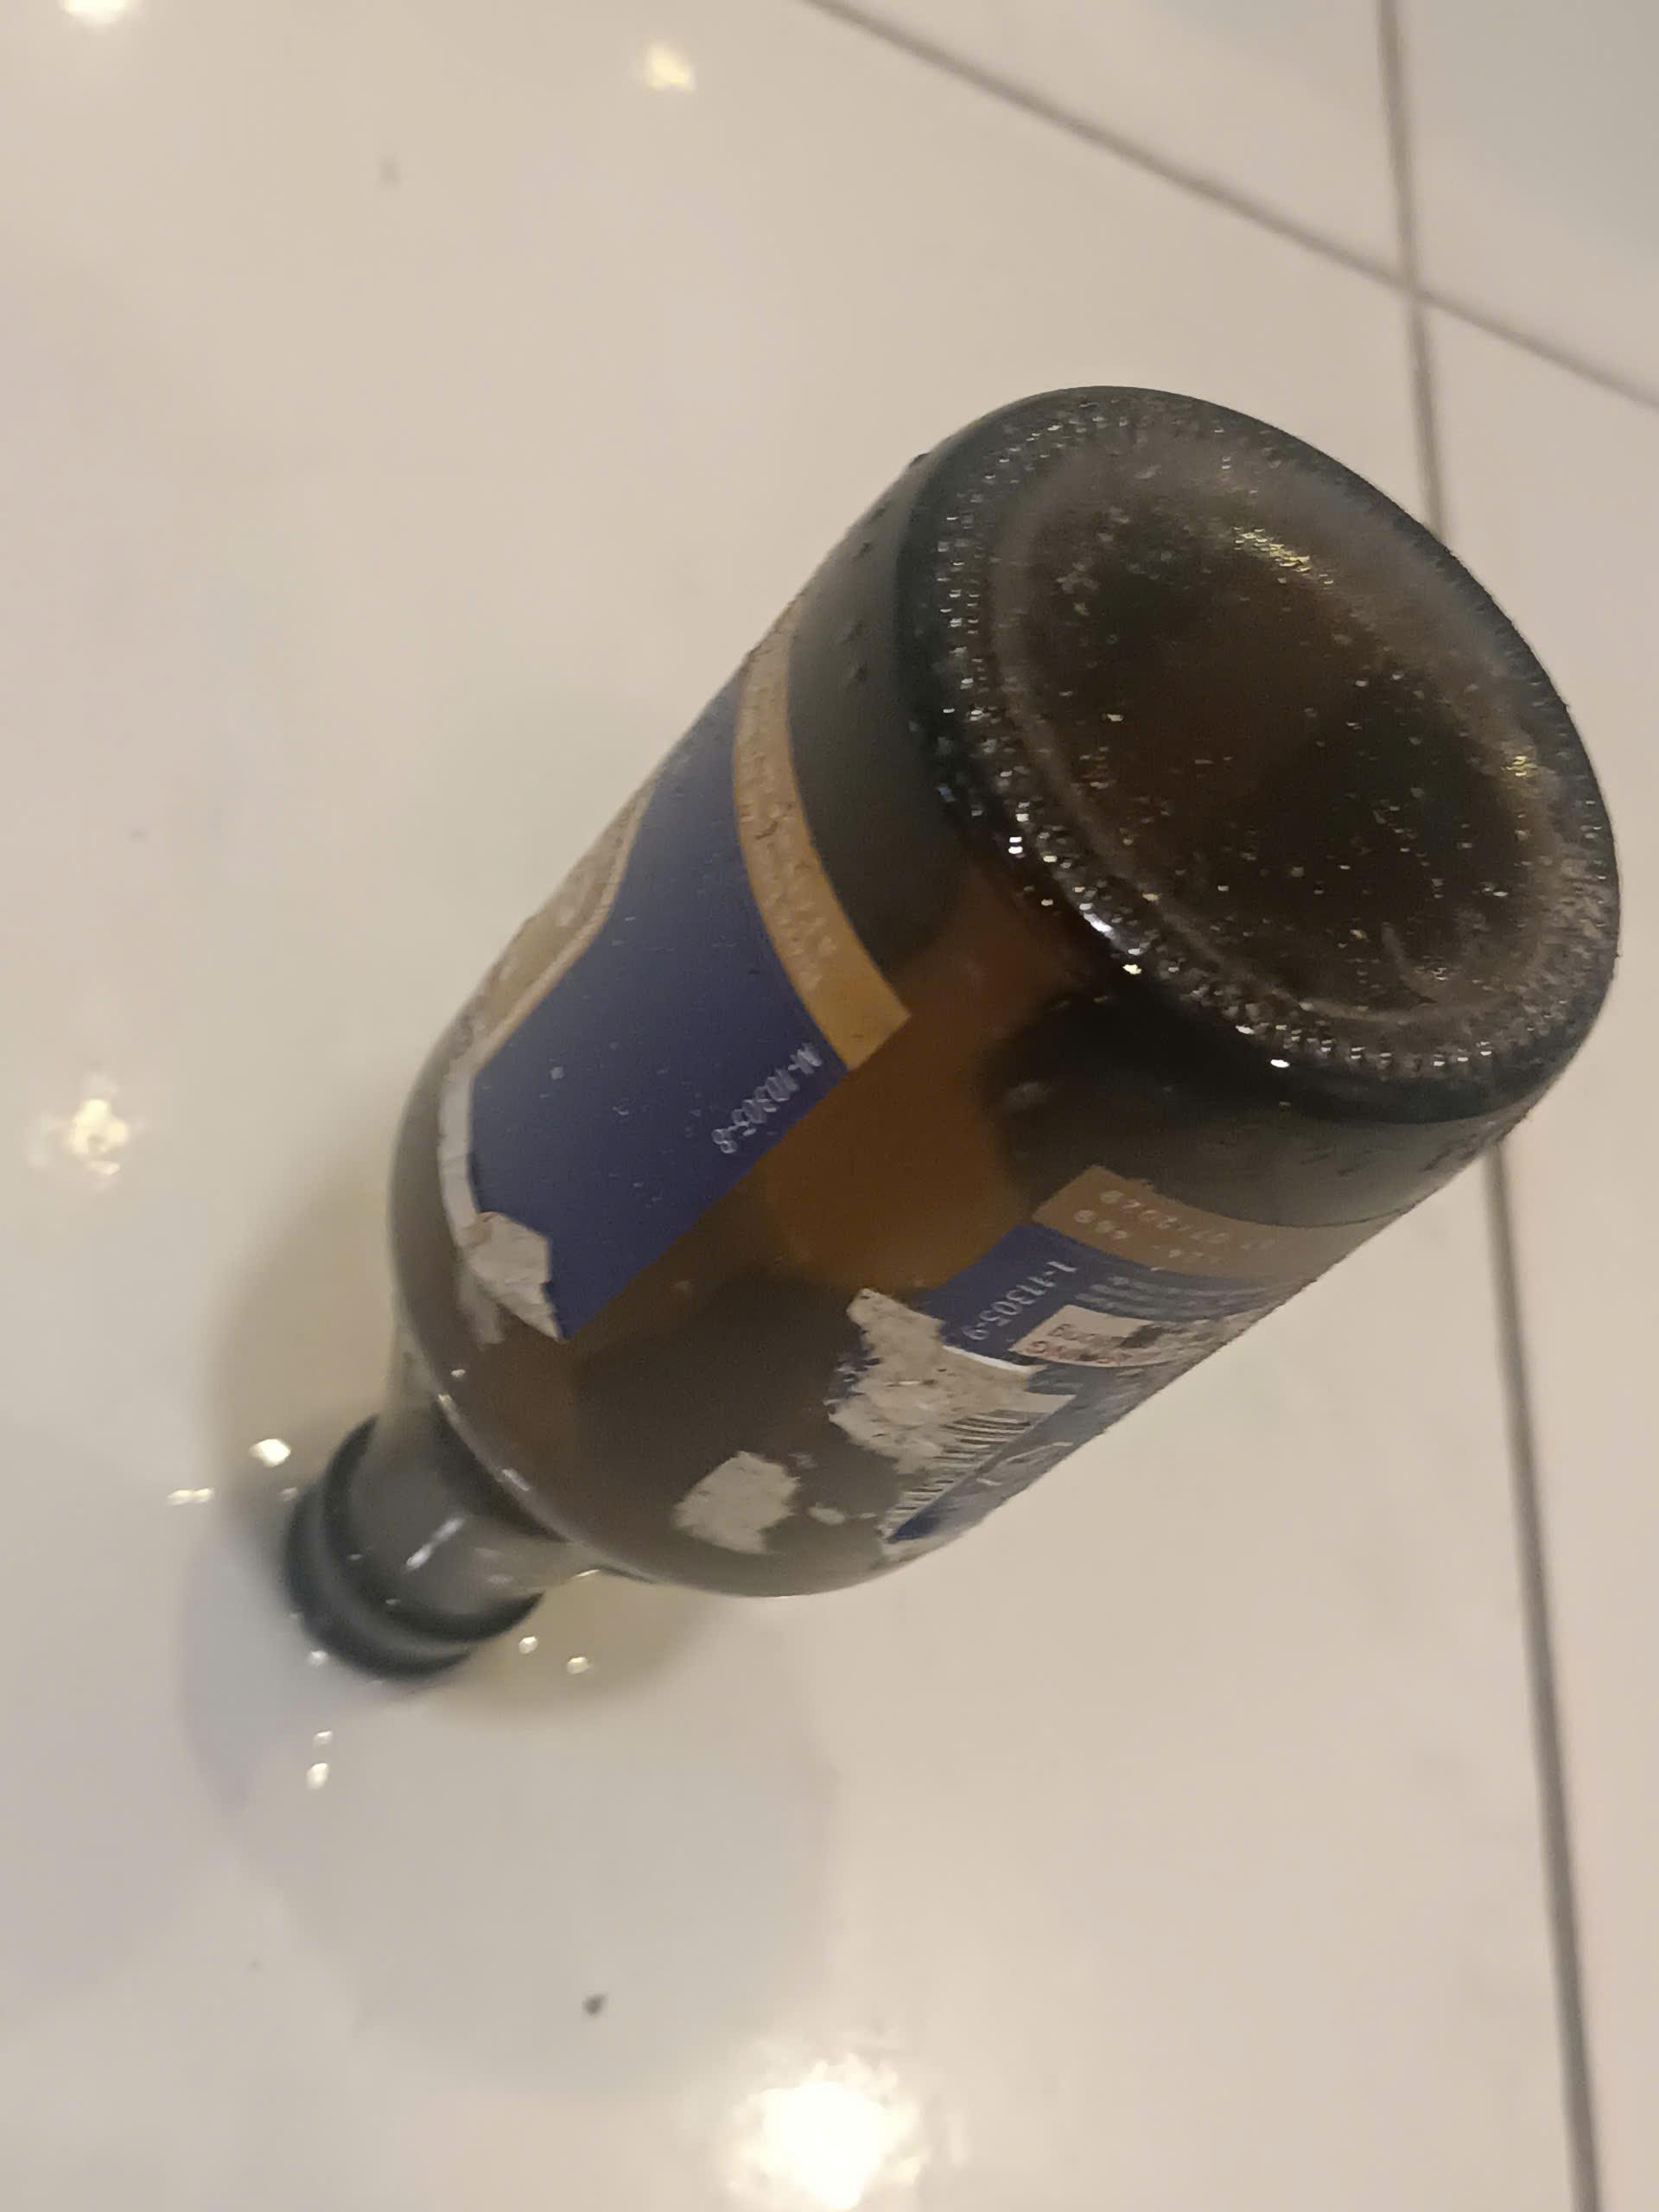Vo co: (295, 385, 1617, 1677)
